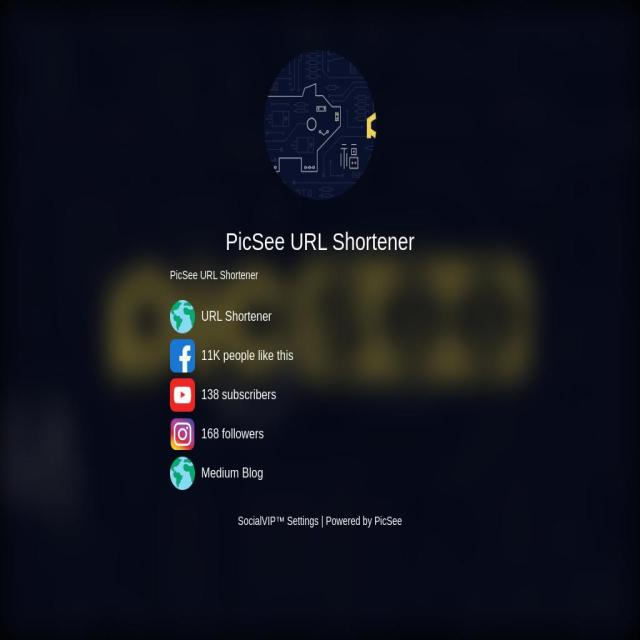button: (170, 378, 470, 418), (170, 456, 470, 496), (170, 300, 470, 339), (170, 339, 470, 378), (170, 418, 470, 457)
heading: (170, 225, 470, 258)
image: (0, 0, 640, 640), (264, 50, 376, 200), (170, 339, 195, 373), (170, 378, 195, 412), (170, 417, 195, 451), (170, 300, 195, 333), (170, 457, 195, 490)
link: (238, 514, 326, 528)
text: (201, 348, 293, 363), (170, 268, 258, 282), (201, 308, 272, 324), (202, 387, 276, 402), (326, 514, 402, 528), (201, 426, 264, 442), (201, 465, 263, 481)
